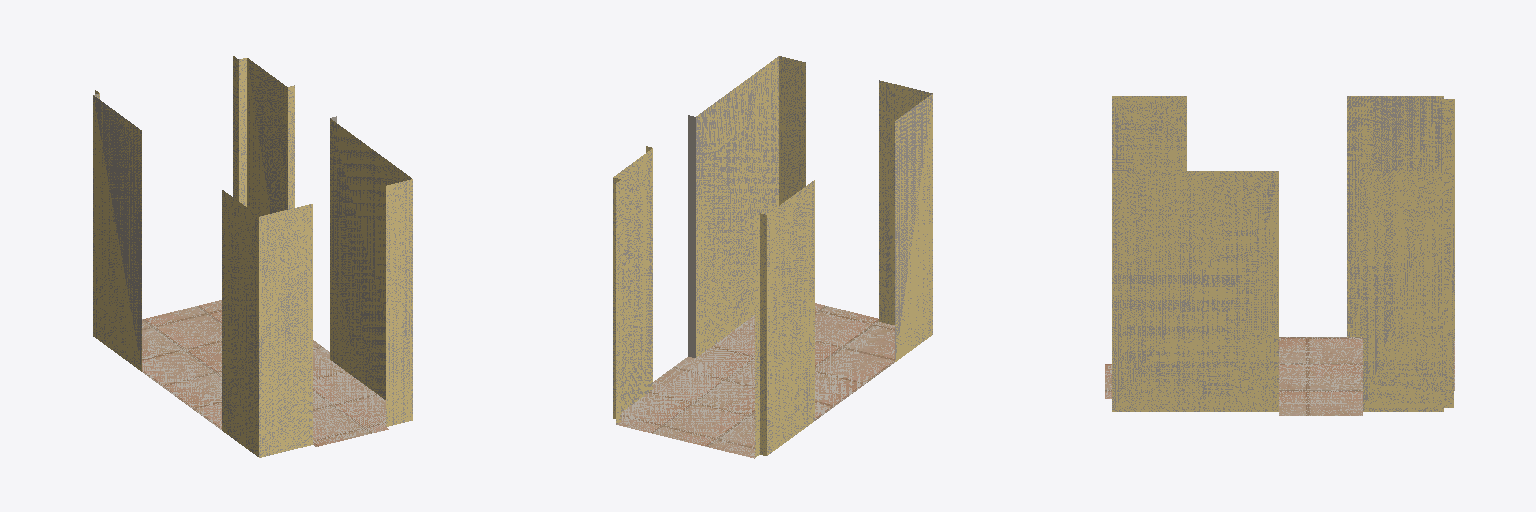
3 renders of one model, left to right at view 1: azimuth 30°, elevation 25°; view 2: azimuth 150°, elevation 25°; view 3: azimuth 270°, elevation 25°, orthographic.
Parts seen in each view (by area): view 1: Mesh1 COM014 Model; view 2: Mesh1 COM014 Model; view 3: Mesh1 COM014 Model.
Part boxes in pixels (x1,y1,x2,y2): Mesh1 COM014 Model: (93,56,412,457); Mesh1 COM014 Model: (613,56,932,458); Mesh1 COM014 Model: (1105,96,1454,415).
Bounding box in the file's own units: 2.1 × 3 × 3.93.
Materials: 3 (1 with a texture image).